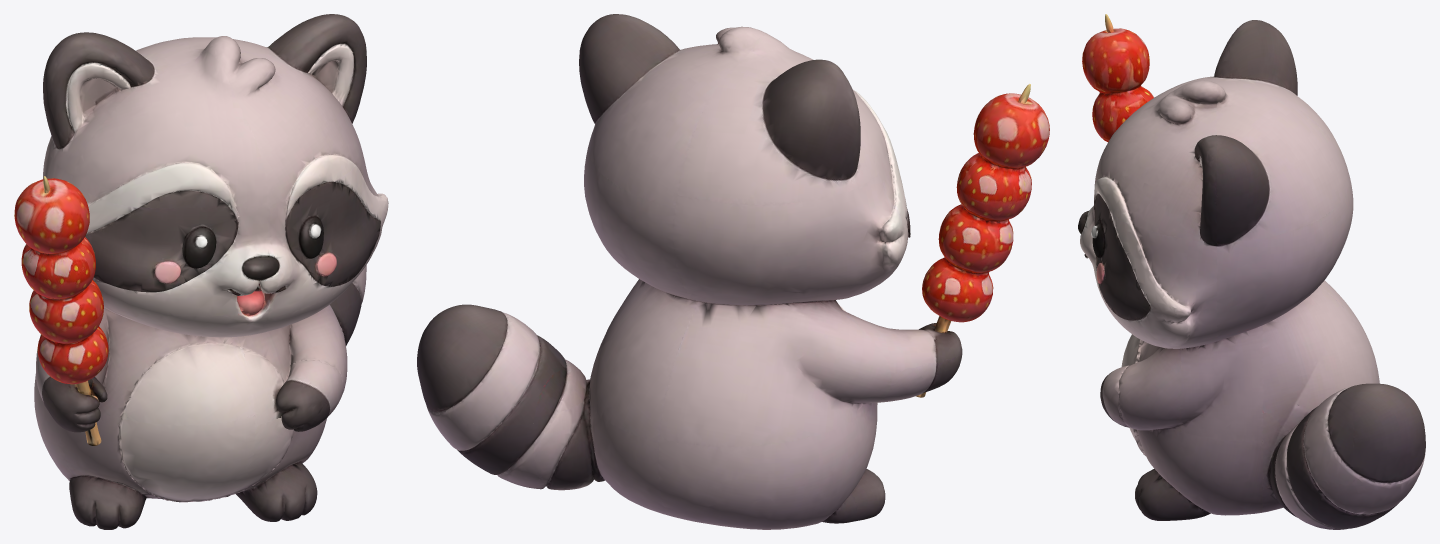
Rendered from model-mobile-v001.glb.
3 renders of one model, left to right at view 1: azimuth 30°, elevation 25°; view 2: azimuth 150°, elevation 25°; view 3: azimuth 270°, elevation 25°, orthographic. The views are drawn at different scales.
Parts seen in each view (by area): view 1: tmpk1tw1vg5obj; view 2: tmpk1tw1vg5obj; view 3: tmpk1tw1vg5obj.
Boxes of the visible parts, left/top/right/bottom form: tmpk1tw1vg5obj: left=14, top=14, right=388, bottom=529; tmpk1tw1vg5obj: left=417, top=14, right=1049, bottom=529; tmpk1tw1vg5obj: left=1078, top=14, right=1425, bottom=529.
Size of the model in its own units: 0.9998 by 0.9507 by 0.7058.
1 material, 1 textured.
